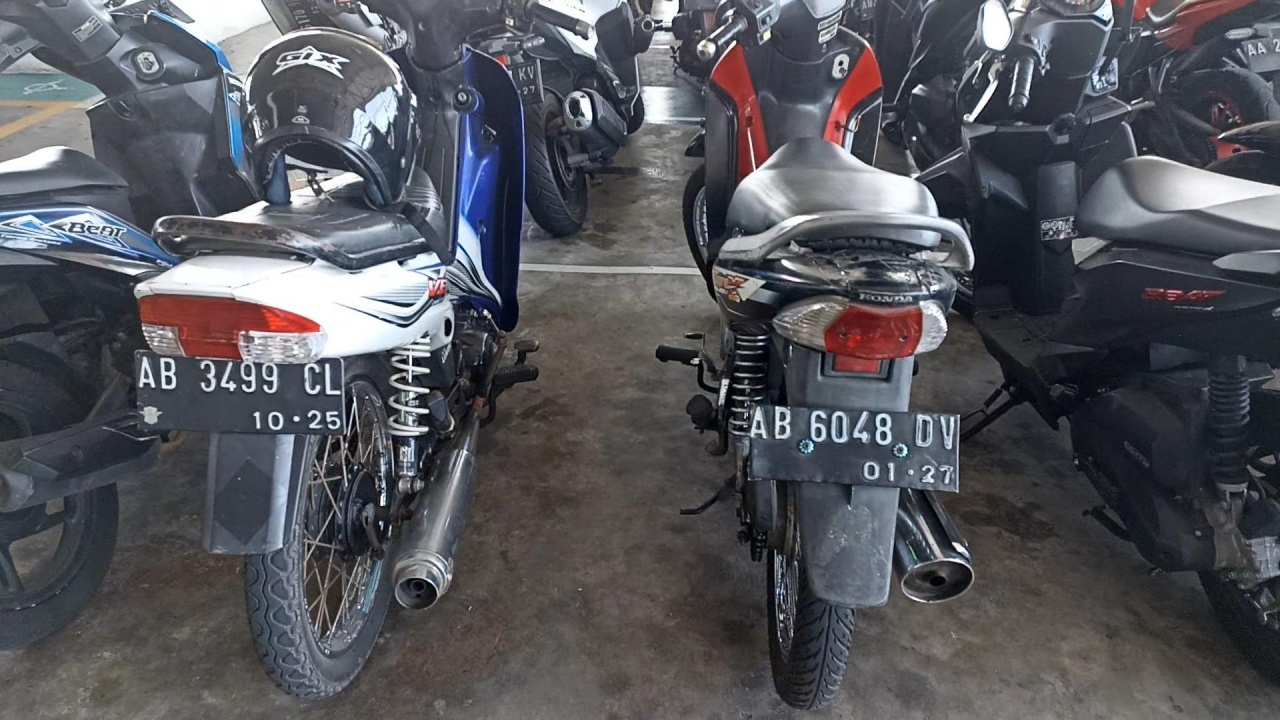plate: (750, 402, 961, 492), (134, 351, 346, 435)
